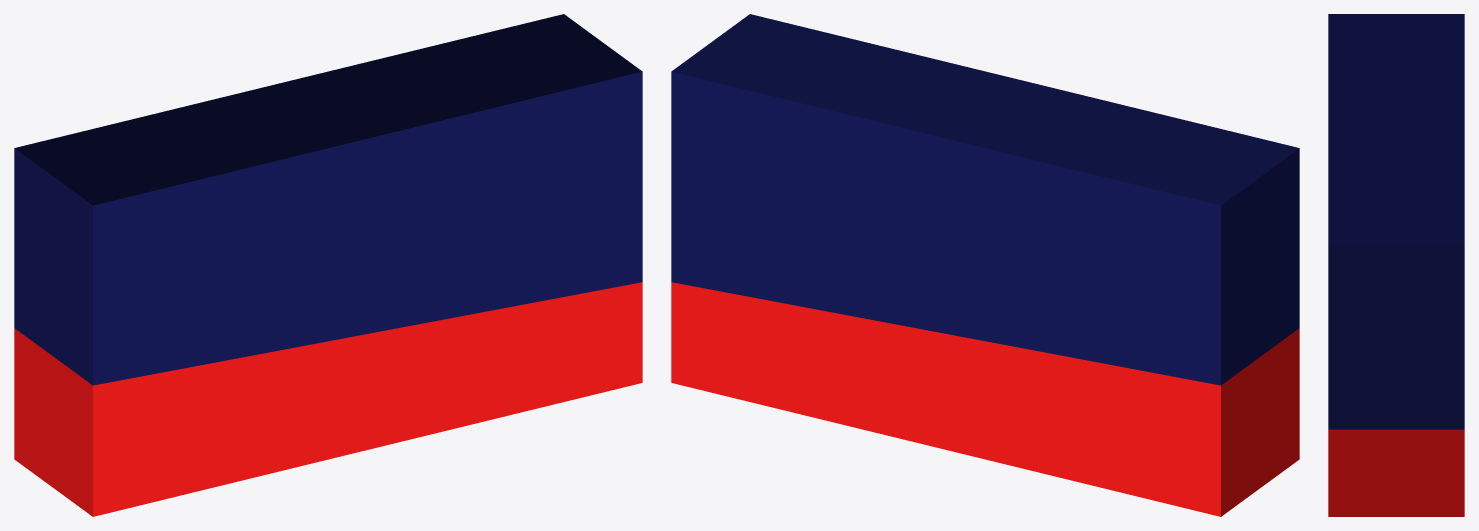
The model's file is Cocoa.fbx.
3 views of the same model, side by side, from view 1: azimuth 30°, elevation 25°; view 2: azimuth 150°, elevation 25°; view 3: azimuth 270°, elevation 25° (orthographic). The views are drawn at different scales.
Parts seen in each view (by area): view 1: Node 0; view 2: Node 0; view 3: Node 0.
Part boxes in pixels (x1=…): Node 0: x1=14, y1=14, x2=642, y2=516; Node 0: x1=671, y1=14, x2=1299, y2=516; Node 0: x1=1328, y1=14, x2=1464, y2=516.
Bounding box in the file's own units: 0.055 × 0.12 × 0.2218.
